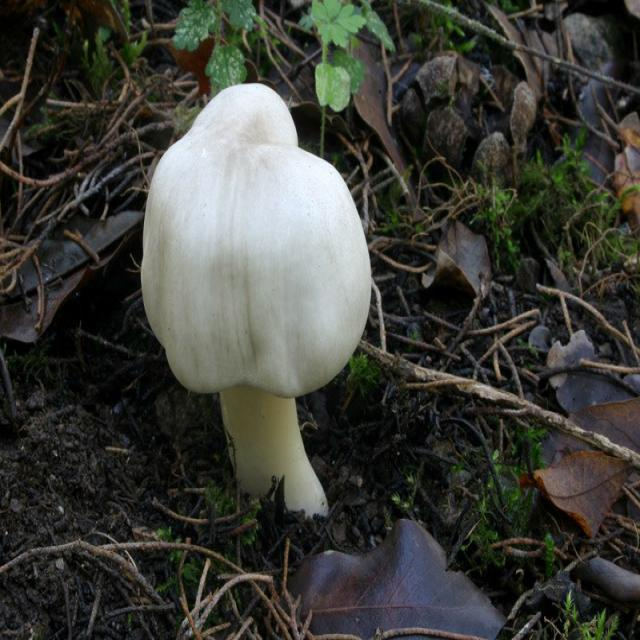Agaricus bisporus: (143, 81, 373, 520)
